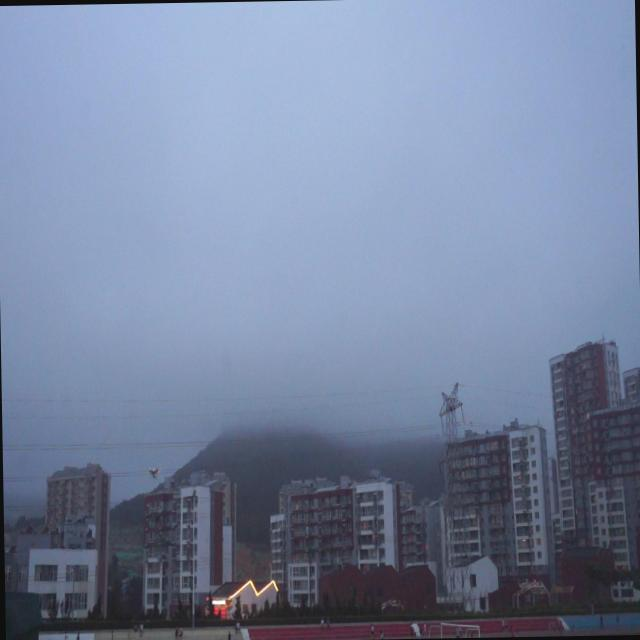drone: (146, 461, 162, 483)
